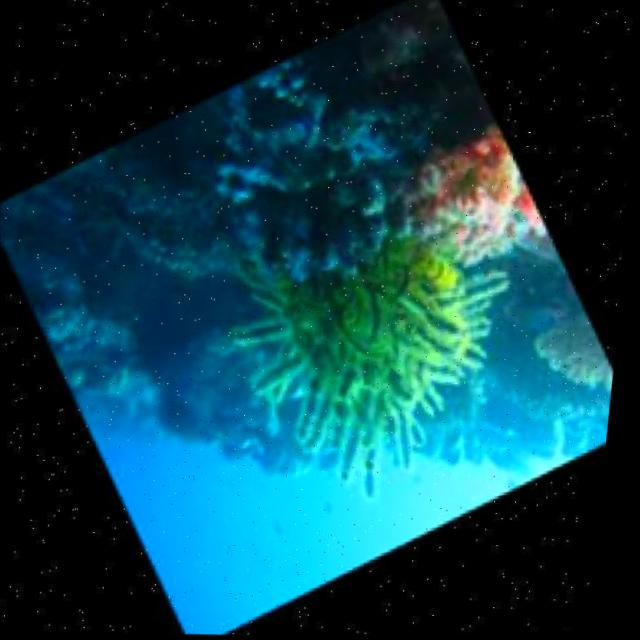Healthy Coral: (216, 232, 524, 522), (376, 117, 564, 285)
